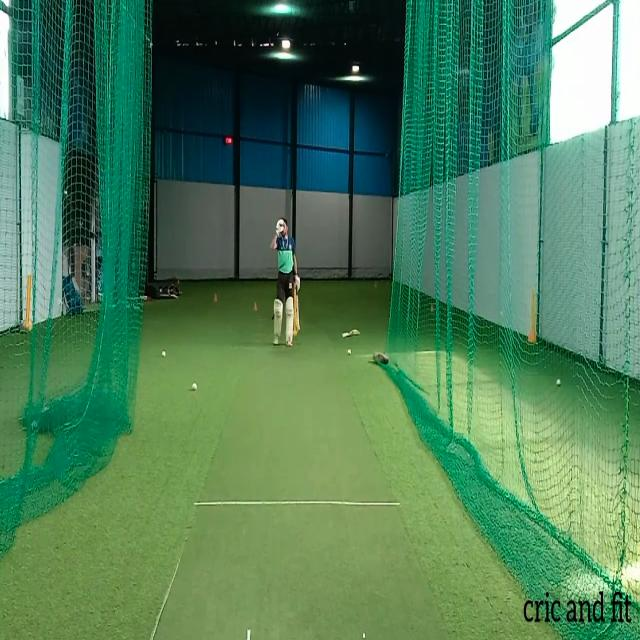batsman: (269, 216, 301, 348)
